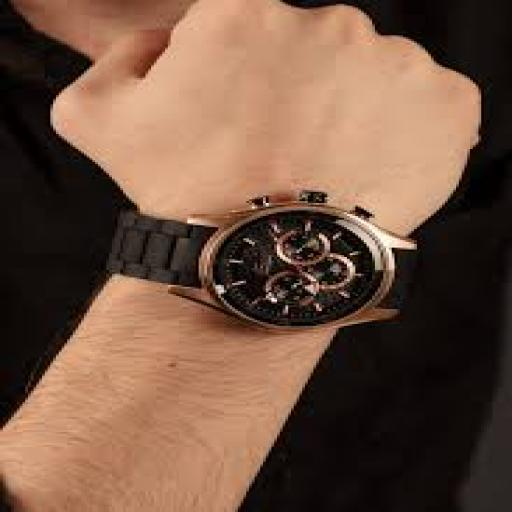KolSaati: (82, 192, 468, 340)
